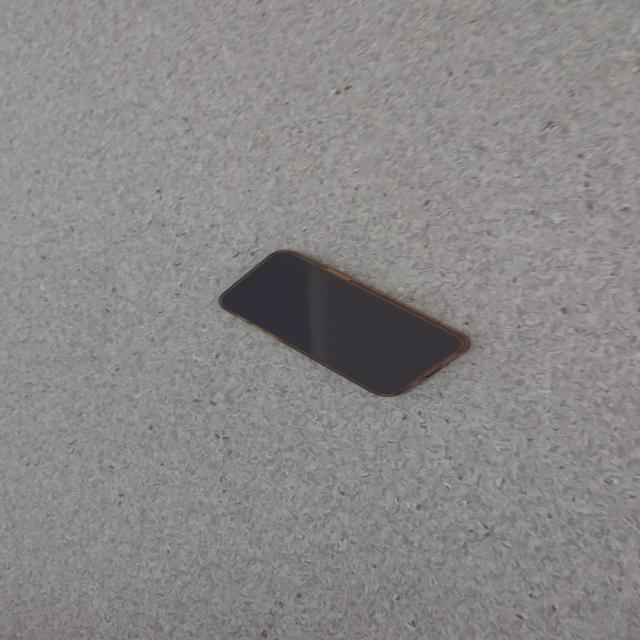phone: (216, 248, 471, 398)
